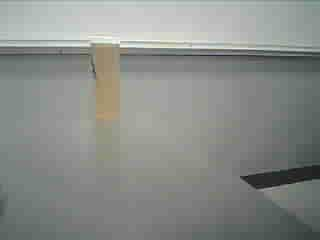Bottle A: (83, 30, 127, 128)
